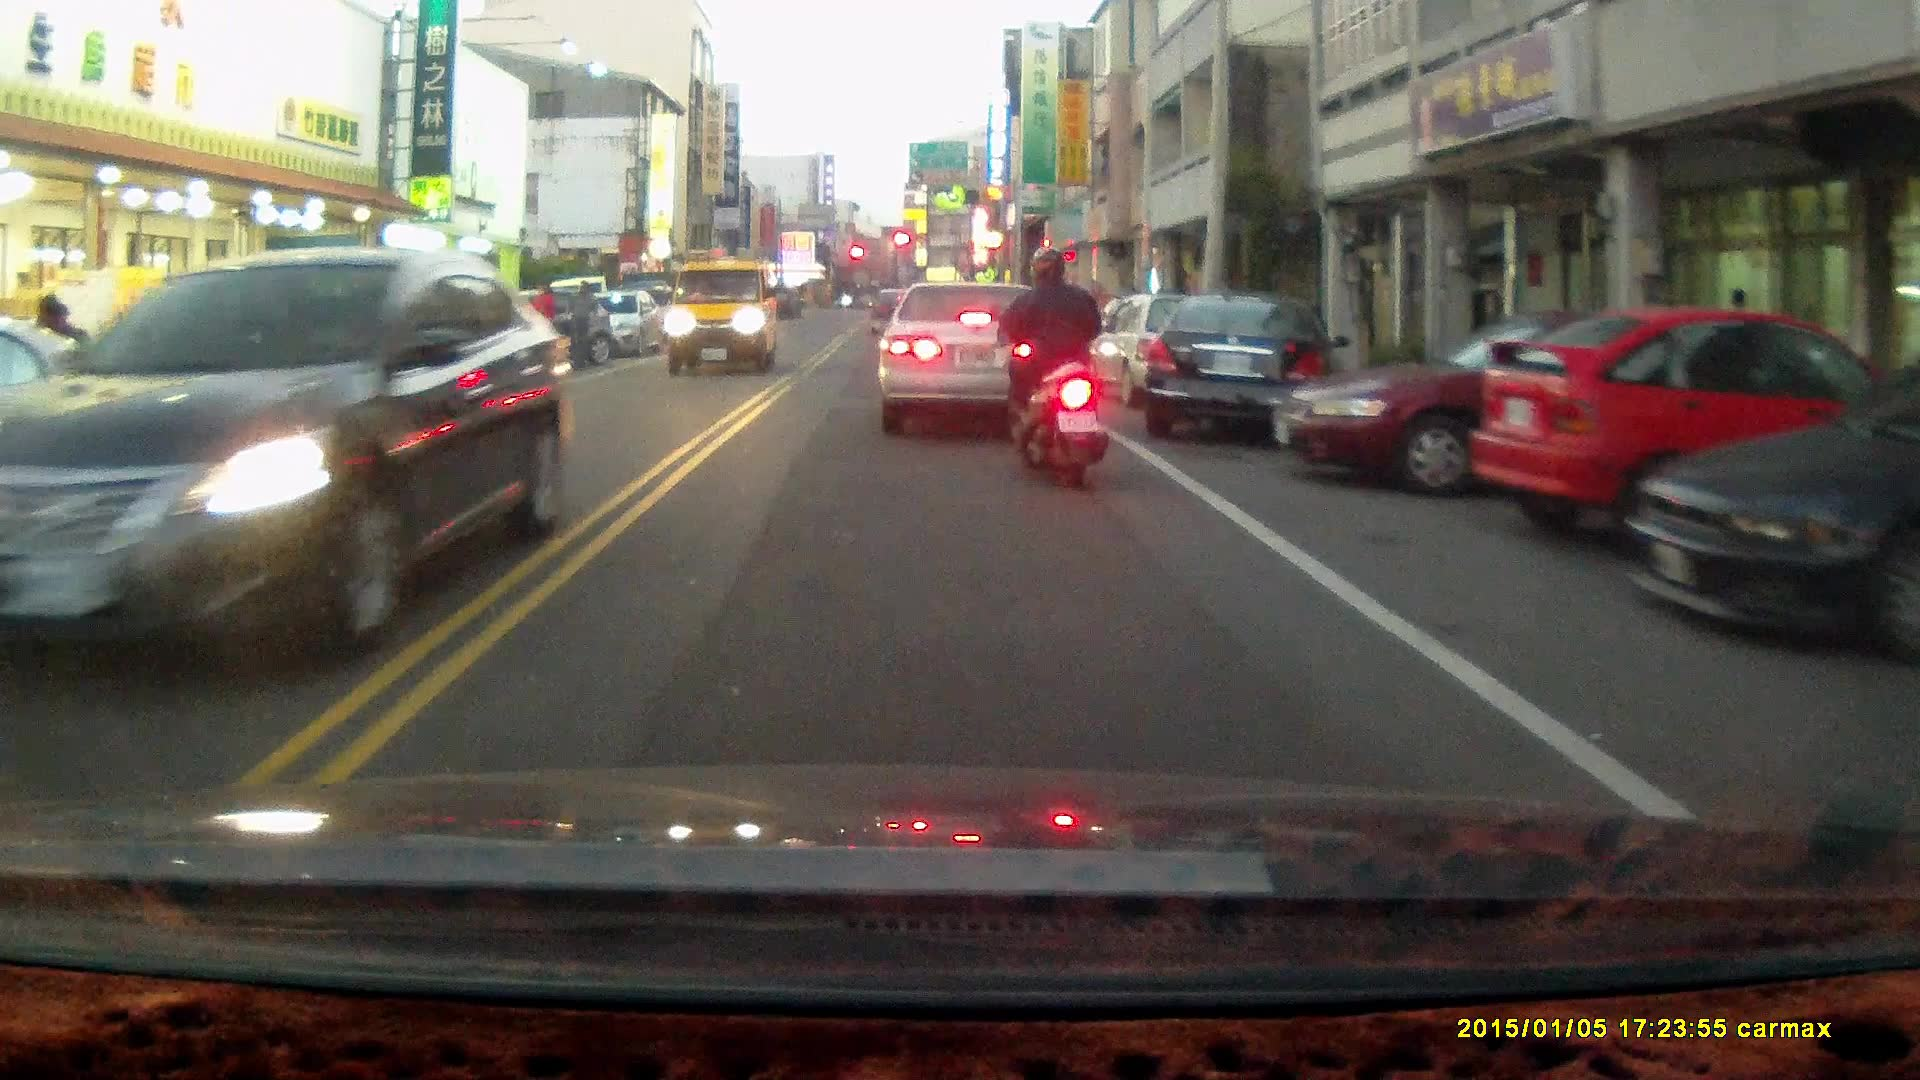pedestrian: (568, 280, 601, 372)
rider: (988, 246, 1117, 492)
vehicle: (1, 247, 582, 675), (1469, 306, 1870, 562), (1618, 337, 1920, 664), (1274, 306, 1736, 498), (1133, 293, 1329, 442), (876, 277, 1061, 426), (663, 258, 776, 377)
